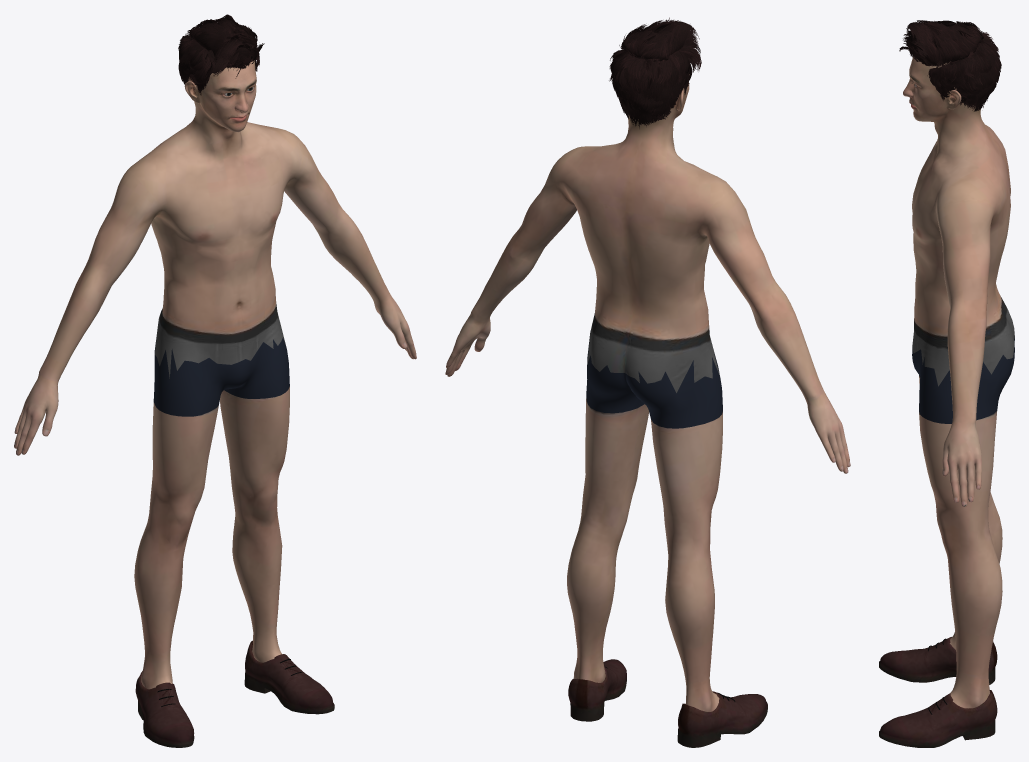
File: body-male.glb
3 renders of one model, left to right at view 1: azimuth 30°, elevation 25°; view 2: azimuth 150°, elevation 25°; view 3: azimuth 270°, elevation 25°, orthographic.
Parts seen in each view (by area): view 1: SkinnedMesh2_Mark_Body, SkinnedMesh2_Mark_Body_shorts, Derbys01_Mark_Derbys01, Side_Part01_Mark_Hair01, SkinnedMesh2_Mark_Face; view 2: SkinnedMesh2_Mark_Body, Side_Part01_Mark_Hair01, SkinnedMesh2_Mark_Body_shorts, Derbys01_Mark_Derbys01; view 3: SkinnedMesh2_Mark_Body, Derbys01_Mark_Derbys01, Side_Part01_Mark_Hair01, SkinnedMesh2_Mark_Body_shorts, SkinnedMesh2_Mark_Face.
Boxes of the visible parts, x1=… form: SkinnedMesh2_Mark_Body: x1=14, y1=101, x2=416, y2=689; SkinnedMesh2_Mark_Body_shorts: x1=153, y1=336, x2=289, y2=416; Derbys01_Mark_Derbys01: x1=135, y1=640, x2=334, y2=747; Side_Part01_Mark_Hair01: x1=178, y1=14, x2=264, y2=95; SkinnedMesh2_Mark_Face: x1=184, y1=60, x2=256, y2=132; SkinnedMesh2_Mark_Body: x1=445, y1=108, x2=850, y2=711; Side_Part01_Mark_Hair01: x1=609, y1=17, x2=701, y2=128; SkinnedMesh2_Mark_Body_shorts: x1=586, y1=336, x2=722, y2=428; Derbys01_Mark_Derbys01: x1=568, y1=659, x2=767, y2=747; SkinnedMesh2_Mark_Body: x1=912, y1=103, x2=1014, y2=708; Derbys01_Mark_Derbys01: x1=879, y1=637, x2=997, y2=747; Side_Part01_Mark_Hair01: x1=899, y1=20, x2=1001, y2=111; SkinnedMesh2_Mark_Body_shorts: x1=912, y1=338, x2=1014, y2=423; SkinnedMesh2_Mark_Face: x1=903, y1=56, x2=963, y2=122.
Size of the model in its own units: 1.14 by 1.89 by 0.3385.
9 materials, 8 textured.
